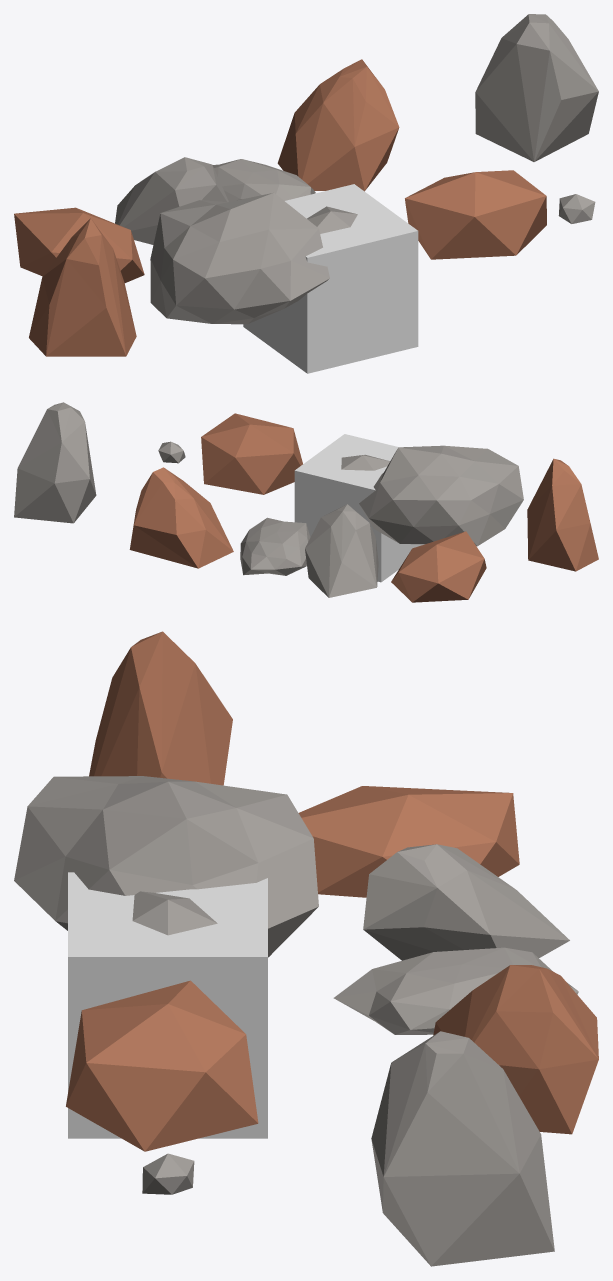
Rendered from Rock.fbx.
3 renders of one model, top to bottom at view 1: azimuth 30°, elevation 25°; view 2: azimuth 150°, elevation 25°; view 3: azimuth 270°, elevation 25°, orthographic. The views are drawn at different scales.
Visible parts, largest first — view 1: Cube, Rock_03, RockTall_04, RockTall_03, RockTall_01, Rock_05, Rock_01, RockTall_02, Rock_07, Rock_06, LowPolyRock; view 2: Rock_03, RockTall_04, RockTall_03, Cube, Rock_05, RockTall_01, RockTall_02, Rock_01, Rock_07, LowPolyRock, Rock_06; view 3: Rock_03, RockTall_04, Cube, Rock_05, RockTall_03, Rock_01, RockTall_02, RockTall_01, Rock_07, LowPolyRock, Rock_06.
Part boxes in pixels (x1,y1,x2,y2): Cube: [243, 184, 418, 373]; Rock_03: [150, 192, 329, 324]; RockTall_04: [475, 14, 598, 161]; RockTall_03: [277, 59, 399, 191]; RockTall_01: [29, 218, 136, 356]; Rock_05: [405, 170, 546, 259]; Rock_01: [14, 207, 144, 282]; RockTall_02: [115, 157, 228, 244]; Rock_07: [212, 159, 315, 201]; Rock_06: [558, 194, 595, 223]; LowPolyRock: [307, 206, 357, 233]; Rock_03: [359, 445, 523, 546]; RockTall_04: [14, 402, 96, 523]; RockTall_03: [129, 467, 233, 568]; Cube: [294, 434, 424, 582]; Rock_05: [201, 413, 302, 494]; RockTall_01: [527, 458, 598, 571]; RockTall_02: [305, 504, 378, 597]; Rock_01: [391, 531, 486, 602]; Rock_07: [240, 517, 310, 575]; LowPolyRock: [341, 454, 389, 470]; Rock_06: [158, 441, 185, 463]; Rock_03: [14, 776, 318, 957]; RockTall_04: [371, 1031, 554, 1266]; Cube: [68, 872, 267, 1138]; Rock_05: [66, 980, 258, 1151]; RockTall_03: [433, 965, 598, 1134]; Rock_01: [298, 786, 519, 897]; RockTall_02: [363, 844, 569, 960]; RockTall_01: [89, 631, 232, 785]; Rock_07: [333, 947, 578, 1034]; LowPolyRock: [132, 891, 217, 935]; Rock_06: [142, 1153, 194, 1194].
Size of the model in its own units: 1146 by 312 by 584.
